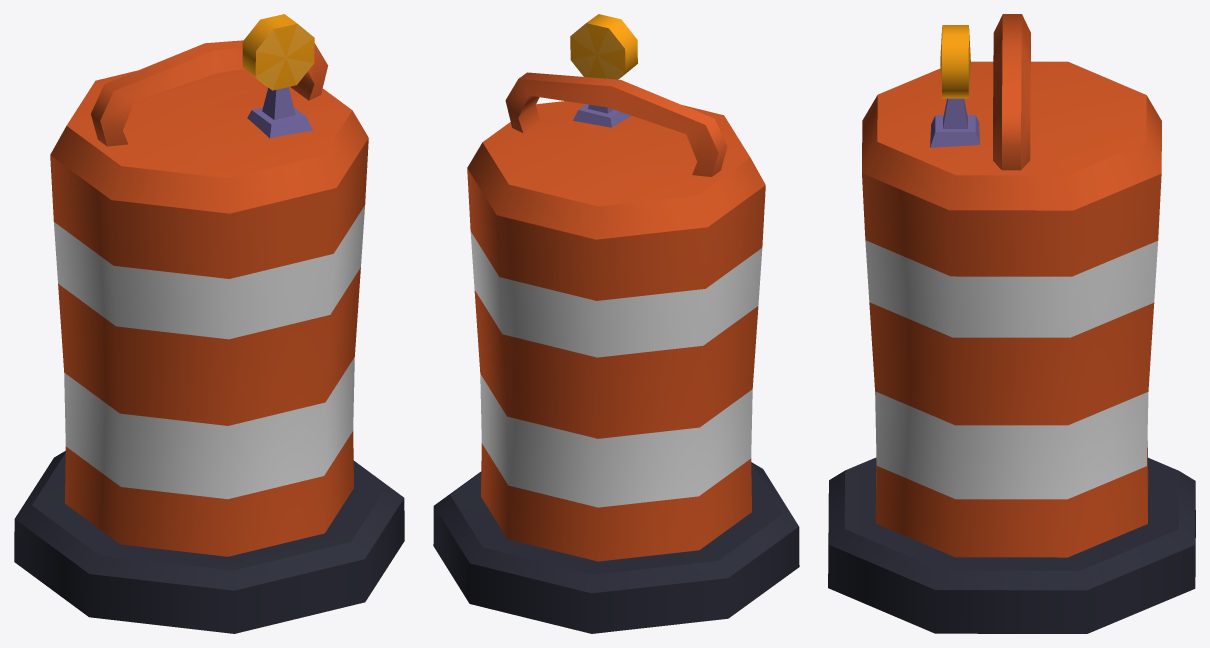
The picture shows the model from 3 angles, left to right: view 1: azimuth 30°, elevation 25°; view 2: azimuth 150°, elevation 25°; view 3: azimuth 270°, elevation 25°; orthographic projection. The views are drawn at different scales.
Parts seen in each view (by area): view 1: Cone_2; view 2: Cone_2; view 3: Cone_2.
Boxes of the visible parts, x1,y1,x2,y2 form: Cone_2: [14, 14, 404, 633]; Cone_2: [433, 14, 799, 633]; Cone_2: [828, 14, 1195, 633].
Size of the model in its own units: 63.75 by 104 by 63.75.
